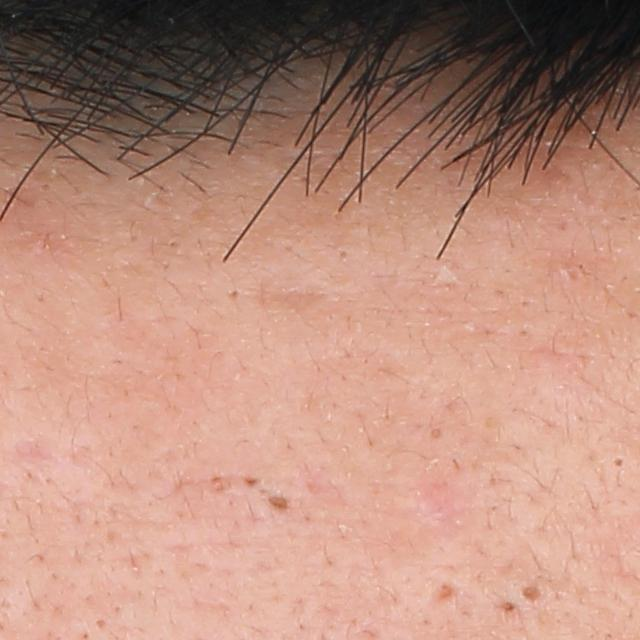atrophic_scar: (248, 279, 334, 318), (426, 577, 461, 606)
comedo: (520, 579, 554, 608), (218, 284, 241, 303), (497, 600, 518, 617), (429, 426, 442, 441), (614, 457, 627, 469)
